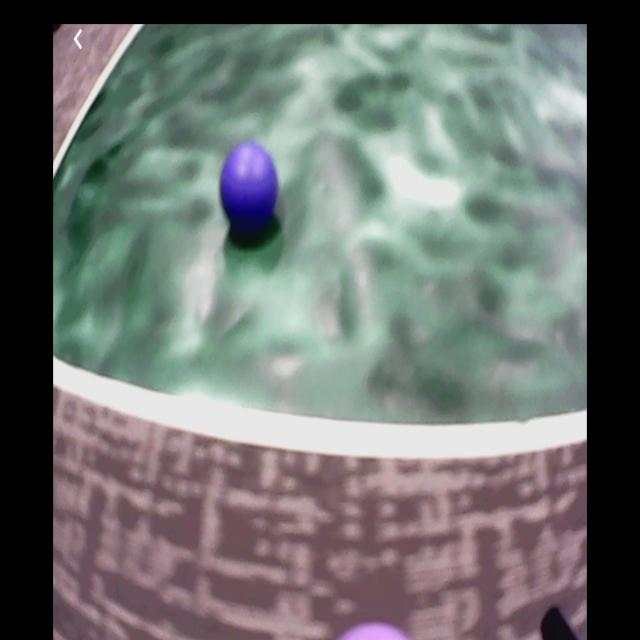ball: (220, 145, 279, 231), (339, 623, 409, 640)
